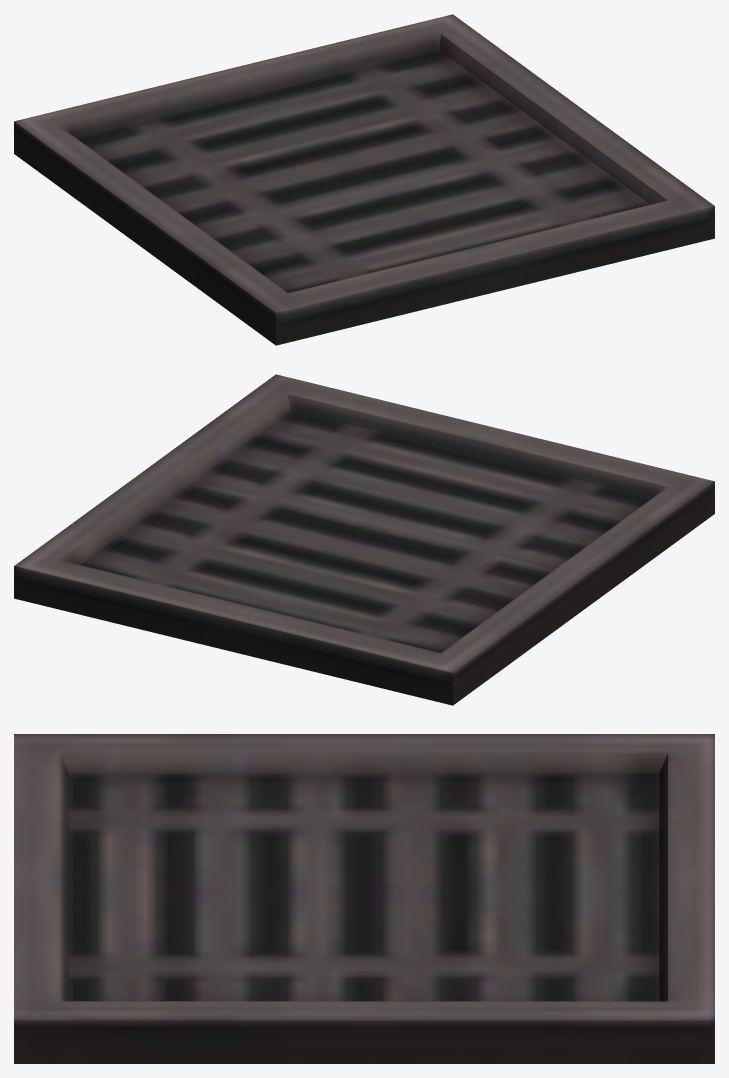
File: 0080_HT_XinShouCun_WuJian03.glb
The picture shows the model from 3 angles, top to bottom: view 1: azimuth 30°, elevation 25°; view 2: azimuth 150°, elevation 25°; view 3: azimuth 270°, elevation 25°; orthographic projection. The views are drawn at different scales.
Size of the model in its own units: 2.13 by 0.1504 by 2.2.
1 material, 1 textured.
